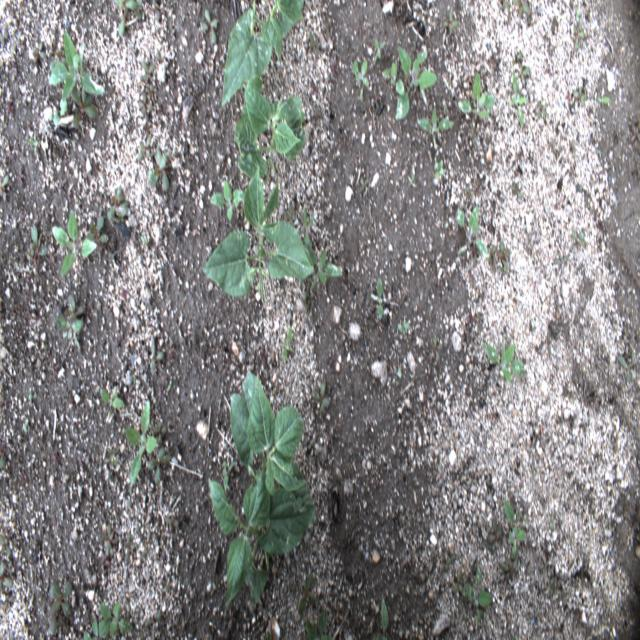crop: (208, 459, 314, 608), (203, 168, 314, 300), (228, 367, 313, 496), (222, 0, 306, 102), (234, 77, 306, 177)
weed: (48, 32, 105, 98), (51, 210, 99, 277), (395, 46, 438, 120), (125, 402, 157, 486), (481, 336, 527, 382), (456, 72, 496, 124), (466, 559, 494, 627), (455, 205, 490, 257), (306, 243, 342, 292), (56, 295, 85, 352), (209, 181, 245, 222), (99, 598, 134, 637), (416, 107, 452, 144), (71, 85, 99, 130), (502, 502, 526, 554), (48, 576, 74, 618), (148, 144, 170, 191), (99, 385, 126, 423), (145, 446, 172, 484), (350, 58, 371, 104), (510, 68, 525, 130), (295, 571, 317, 612), (28, 222, 49, 264), (113, 0, 136, 37), (302, 609, 331, 638), (382, 57, 404, 95), (310, 378, 330, 415), (106, 188, 129, 220), (441, 6, 461, 42), (615, 353, 638, 384), (199, 10, 218, 45), (485, 516, 505, 548), (369, 276, 384, 318), (493, 240, 511, 275), (87, 216, 109, 244), (83, 616, 108, 638), (376, 596, 389, 637), (101, 521, 115, 559), (123, 530, 137, 568), (372, 33, 388, 66), (47, 100, 67, 126), (149, 340, 164, 374), (516, 52, 531, 86), (512, 0, 532, 25), (280, 326, 295, 358), (0, 559, 14, 591), (136, 136, 153, 162), (301, 208, 315, 239), (30, 39, 46, 65), (502, 555, 518, 581), (25, 126, 39, 155), (573, 82, 588, 109), (10, 31, 25, 57), (452, 566, 464, 598), (143, 609, 163, 628), (306, 30, 320, 57), (432, 160, 446, 185), (106, 445, 121, 468), (47, 618, 65, 637), (141, 530, 152, 560), (0, 533, 12, 559), (162, 513, 181, 529), (573, 26, 586, 49), (140, 58, 154, 79), (571, 228, 588, 245), (138, 98, 154, 116), (437, 555, 452, 574), (0, 172, 9, 203), (398, 319, 412, 338), (547, 578, 559, 600), (357, 177, 372, 194), (433, 337, 443, 362), (151, 1, 162, 23), (596, 91, 610, 108), (155, 421, 165, 444), (536, 100, 546, 123), (510, 181, 522, 200), (2, 594, 15, 611), (283, 205, 296, 222), (406, 168, 417, 188), (134, 0, 144, 21), (630, 121, 639, 144), (546, 329, 553, 358), (222, 461, 228, 491), (546, 513, 556, 531), (552, 254, 568, 265), (142, 81, 154, 94), (0, 27, 8, 46), (633, 154, 639, 178), (23, 414, 30, 434), (596, 148, 604, 162), (575, 10, 582, 23), (28, 392, 38, 401), (0, 457, 7, 468), (502, 4, 509, 15)
